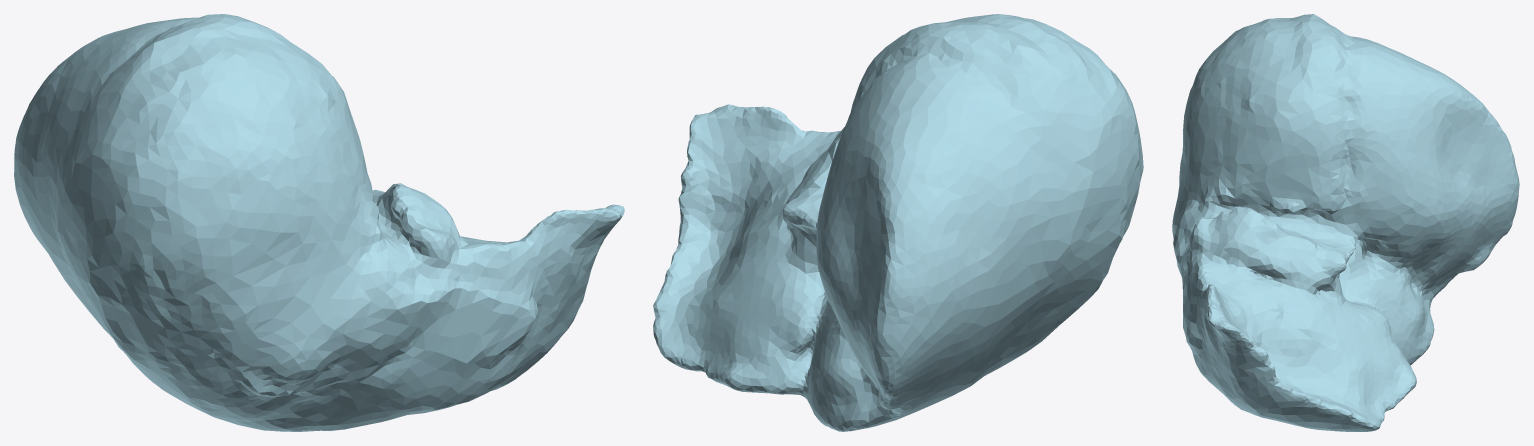
File: liver.obj
3 views of the same model, side by side, from view 1: azimuth 30°, elevation 25°; view 2: azimuth 150°, elevation 25°; view 3: azimuth 270°, elevation 25° (orthographic). The views are drawn at different scales.
Parts seen in each view (by area): view 1: grp1; view 2: grp1; view 3: grp1.
Part boxes in pixels (x1,y1,x2,y2): grp1: [14, 14, 624, 431]; grp1: [653, 14, 1143, 431]; grp1: [1172, 14, 1519, 431].
Bounding box in the file's own units: 194 × 154 × 156.
